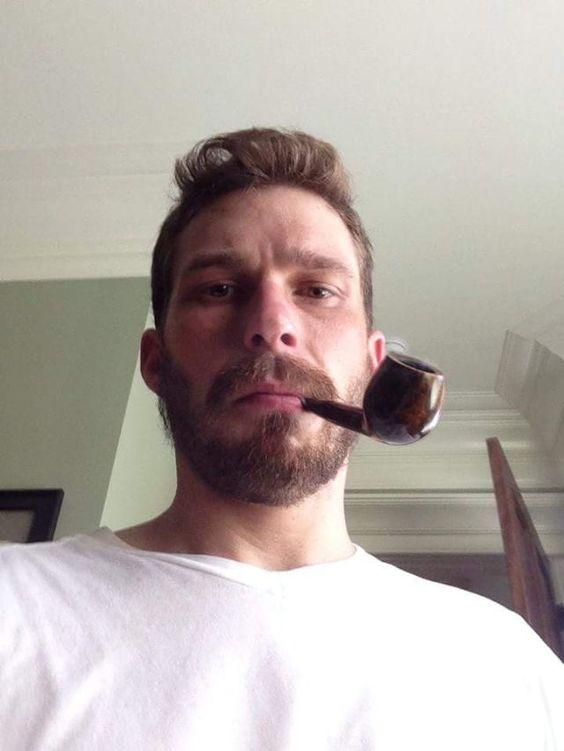trubka: (301, 349, 444, 444)
